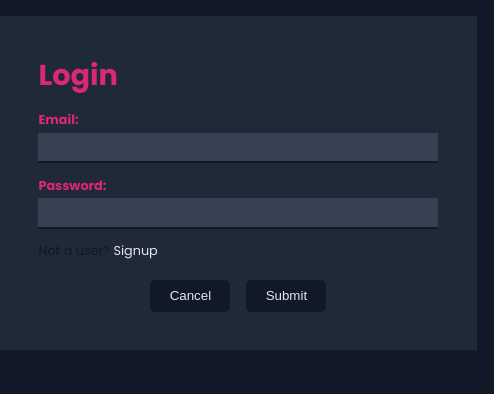
Test case: LoginForm › should render MessagePage component on error
Type "tester@test.com" into the field labelled "Email:" at (238, 148), box left=38, top=133, right=438, bottom=163
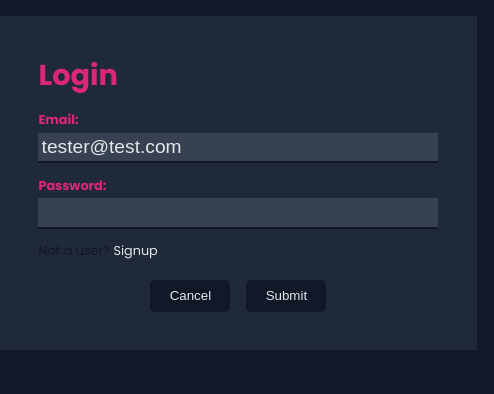
Type "Tester809!!!" into the password field labelled "Password:" at (238, 214), box left=38, top=198, right=438, bottom=229
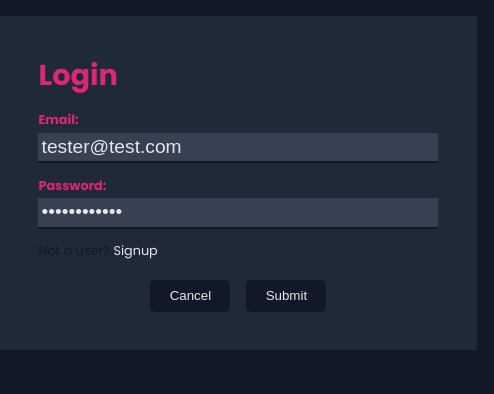
Click the button "Submit" at (286, 296), box left=246, top=280, right=326, bottom=312
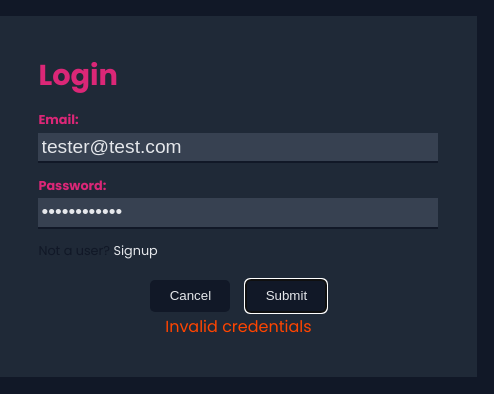
expect the text "Invalid credentials" is shown: met, box left=165, top=315, right=312, bottom=339
